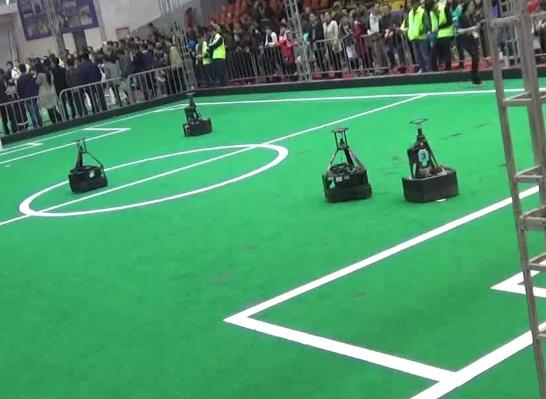robot: (392, 116, 466, 205), (315, 122, 381, 208), (60, 132, 117, 198), (173, 94, 216, 139)
